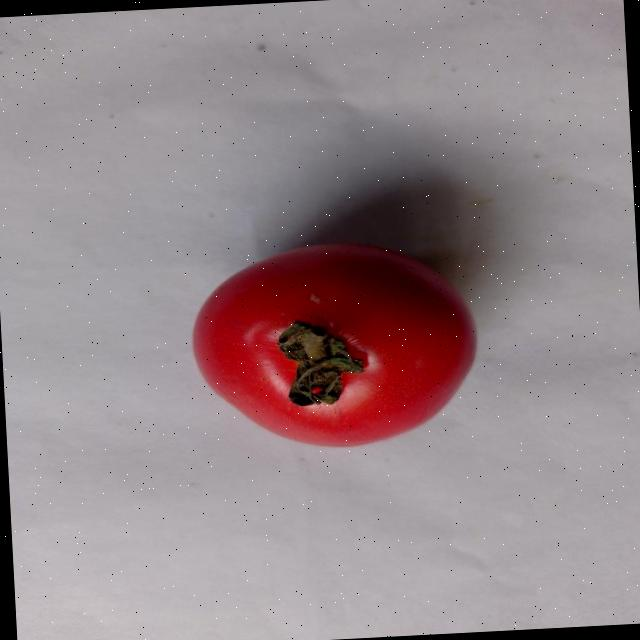Tomato: (183, 233, 484, 462)
